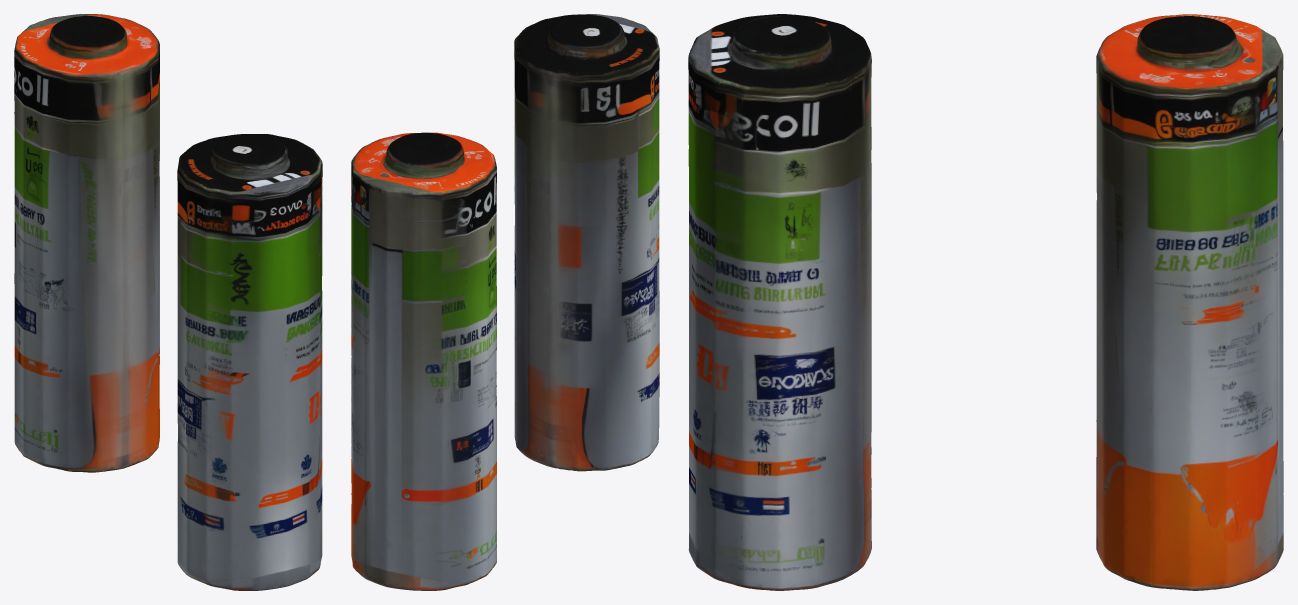
File: ecopil.glb
3 renders of one model, left to right at view 1: azimuth 30°, elevation 25°; view 2: azimuth 150°, elevation 25°; view 3: azimuth 270°, elevation 25°, orthographic. The views are drawn at different scales.
Bounding box in the file's own units: 0.6234 × 1.94 × 2.01.
1 material, 1 textured.
